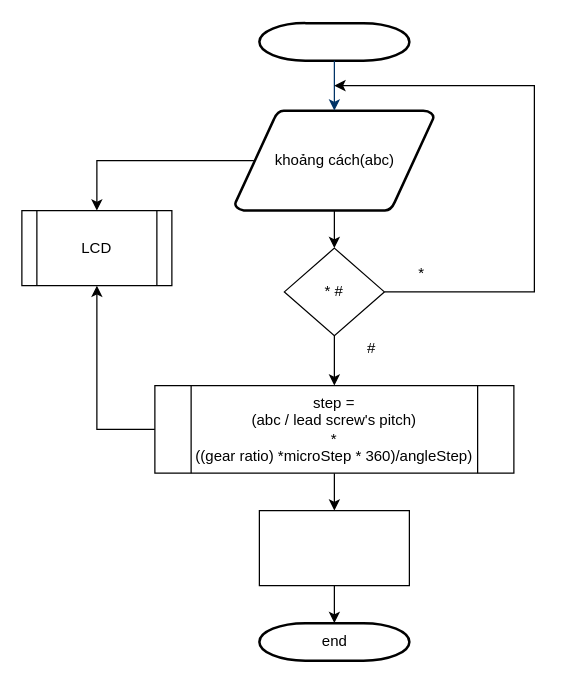
Image size: 566x683. Some labels were removed from this diagram. The shapes that lost their labels are listed below. From the top down, each one's centre as x and y in pixels, then its label:
the point at 334,41: start
the point at 333,547: PWM -> stepper
